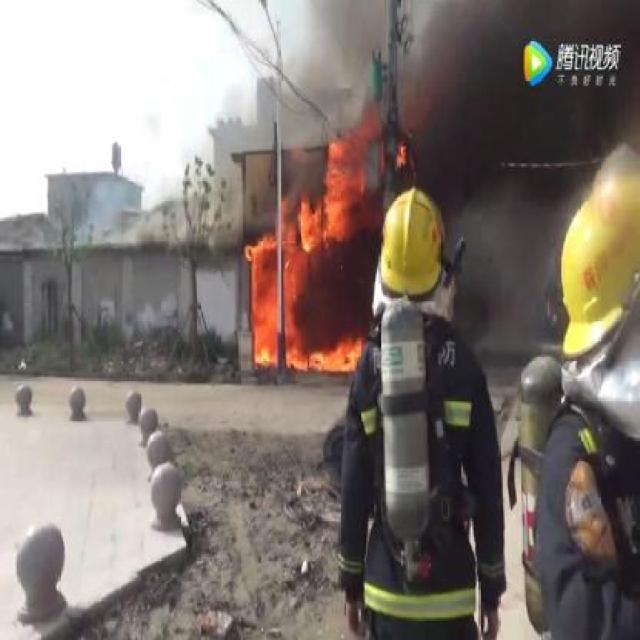Fire: (241, 133, 370, 370), (393, 131, 410, 173)
Smoke: (416, 16, 615, 205), (297, 6, 414, 128)
